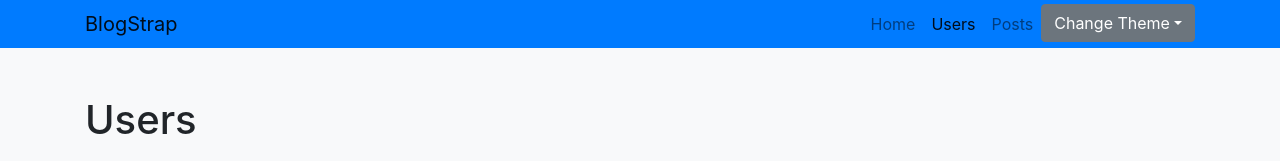
Test: Test the navigation › should go to posts page
Click the link "Posts" at (1012, 24), box top-left (992, 14), bottom-right (1033, 34)
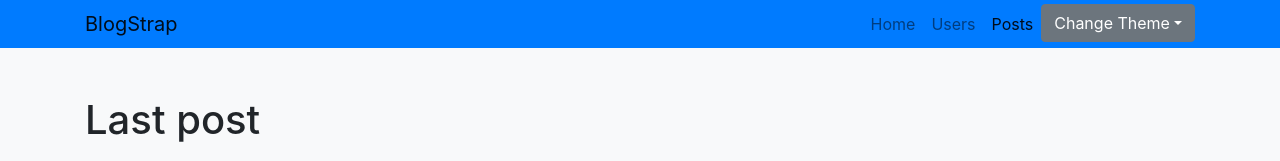
Now the heading with test id "title" reads "Last post", box top-left (85, 95), bottom-right (260, 144)
